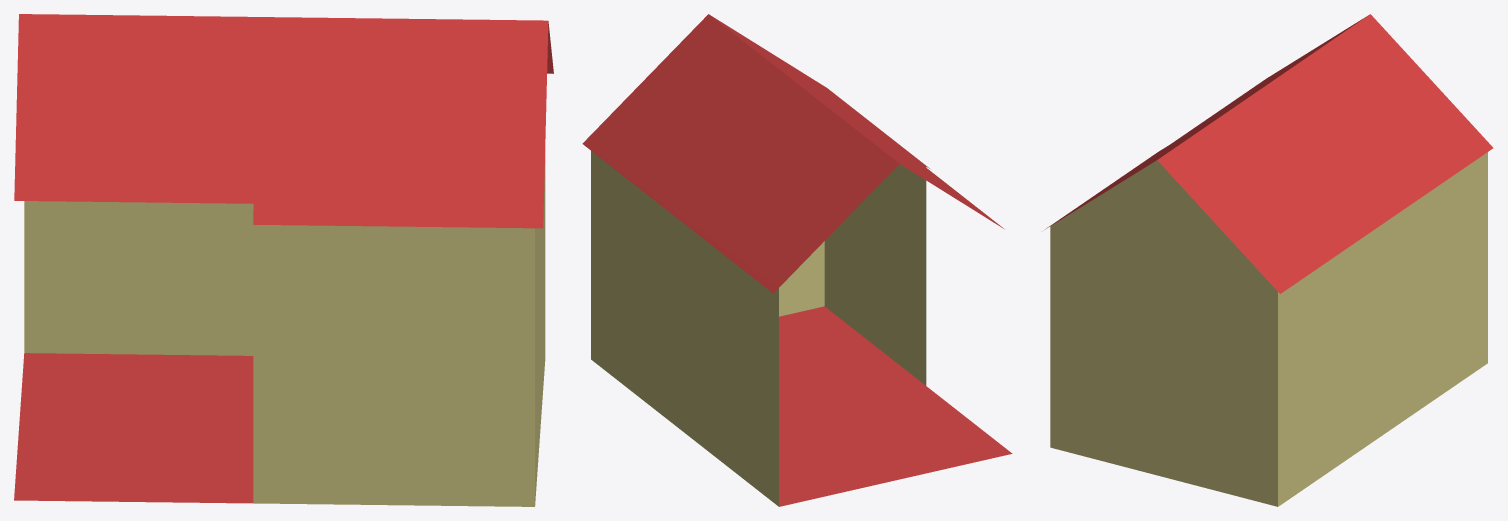
3 views of the same model, side by side, from view 1: azimuth 30°, elevation 25°; view 2: azimuth 150°, elevation 25°; view 3: azimuth 270°, elevation 25° (orthographic). The views are drawn at different scales.
Bounding box in the file's own units: 18.89 × 17.45 × 13.56.
